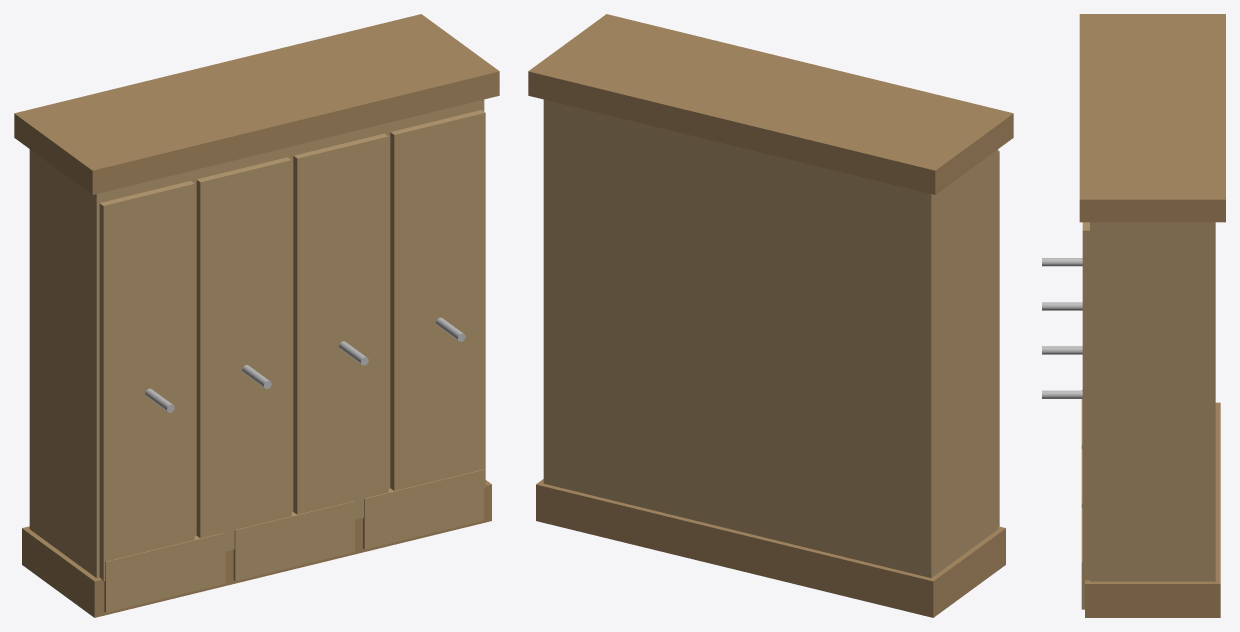
File: premium_teak_almirah.glb
3 views of the same model, side by side, from view 1: azimuth 30°, elevation 25°; view 2: azimuth 150°, elevation 25°; view 3: azimuth 270°, elevation 25° (orthographic). The views are drawn at different scales.
Visible parts, largest first — view 1: world; view 2: world; view 3: world.
Boxes of the visible parts, left/top/right/bottom form: world: left=14, top=14, right=499, bottom=617; world: left=528, top=14, right=1013, bottom=617; world: left=1042, top=14, right=1225, bottom=617.
Bounding box in the file's own units: 2.1 × 2.22 × 0.88.
